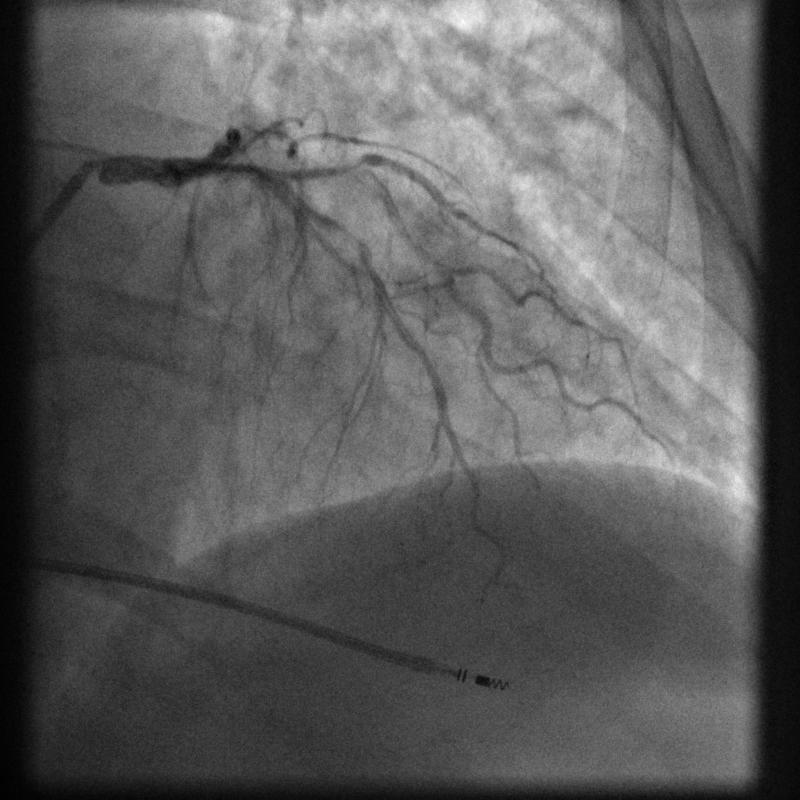Stenosis: (334, 219, 369, 258)
